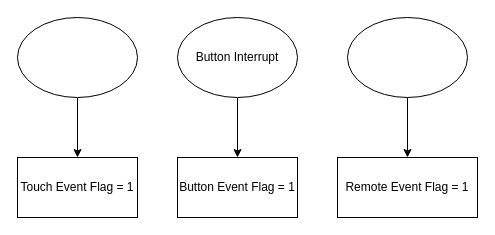
The diagram is 495 pixels wide and 235 high, and some of its shapes have lost their labels. Here are the shapes that lost their labels. From the top down, the centre of each, then its label:
At [77,57]: "Touch Interrupt".
At [407,57]: "Remote Interrupt".
